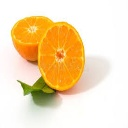orange: (38, 22, 85, 94)
